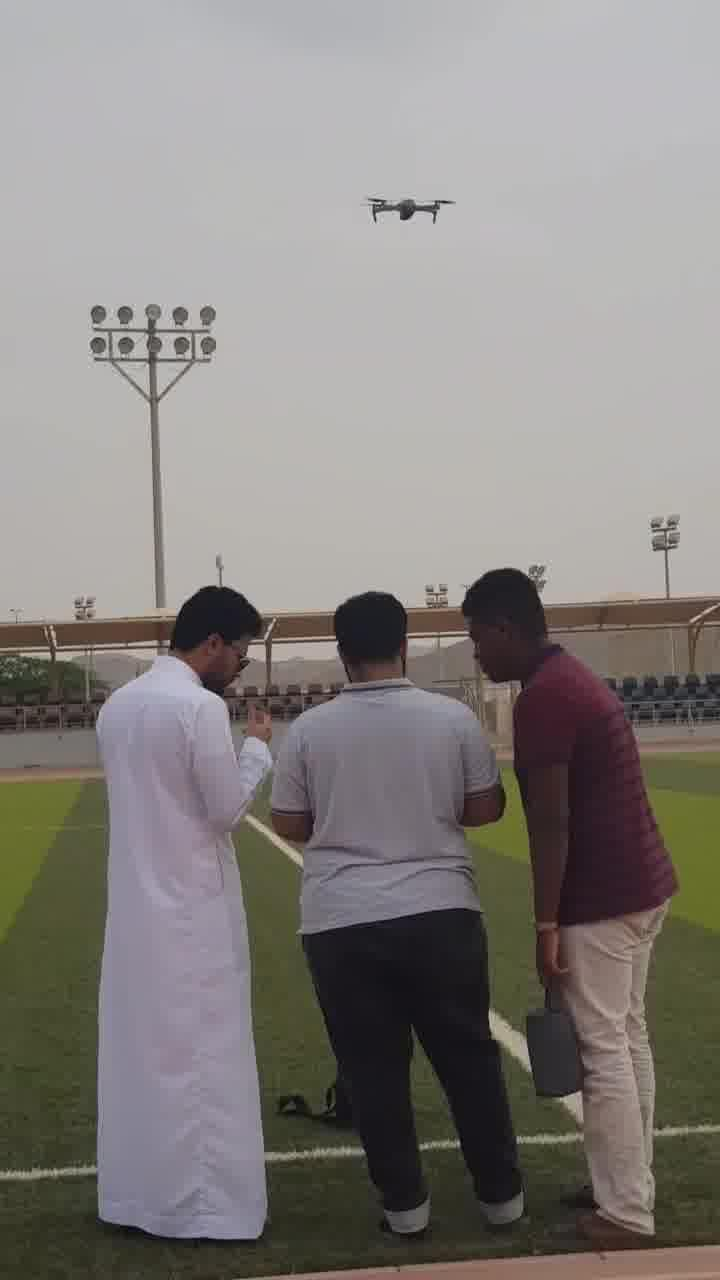drone: (359, 183, 457, 220)
